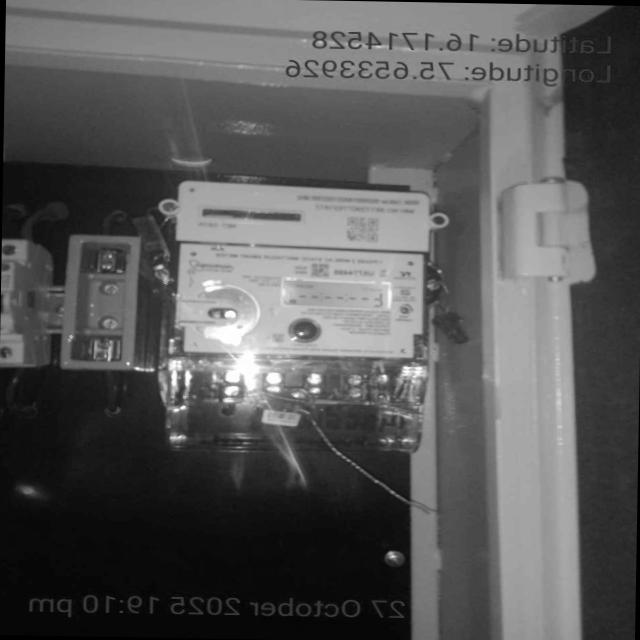meter: (164, 189, 427, 360)
